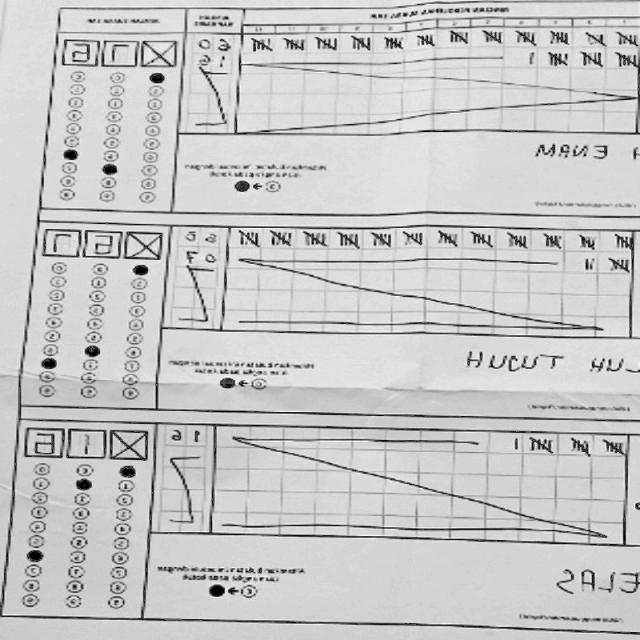Suara: (21, 424, 150, 461), (42, 226, 165, 261), (58, 37, 180, 71)
